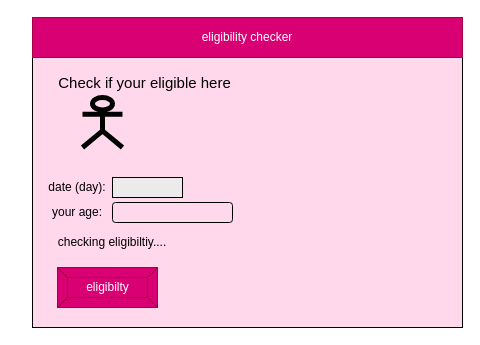
This 480x345 diagram has some shape labels left out. The box of each missing label's shape, as (x1, y1, x2, y2) in pixels:
Actor: (80, 94, 124, 150)
Monday: (112, 176, 182, 198)
